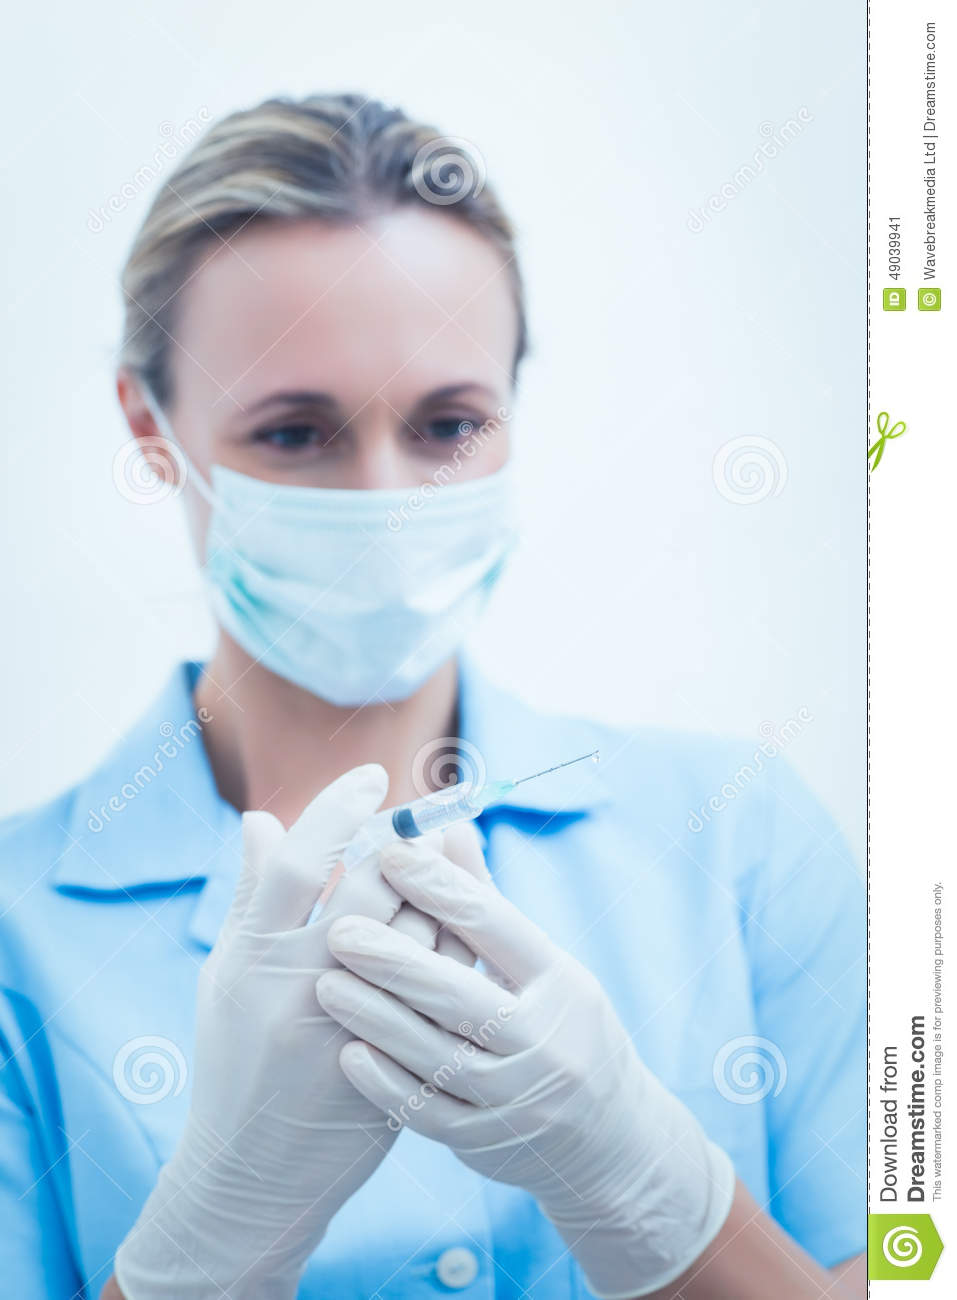mask: (196, 467, 534, 711)
